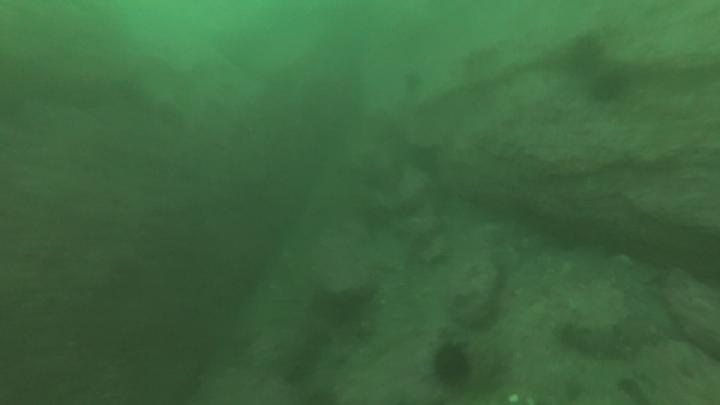echinus: (429, 340, 474, 389), (566, 32, 608, 77), (587, 69, 629, 105), (399, 68, 426, 97)
holothurian: (554, 316, 646, 362)
